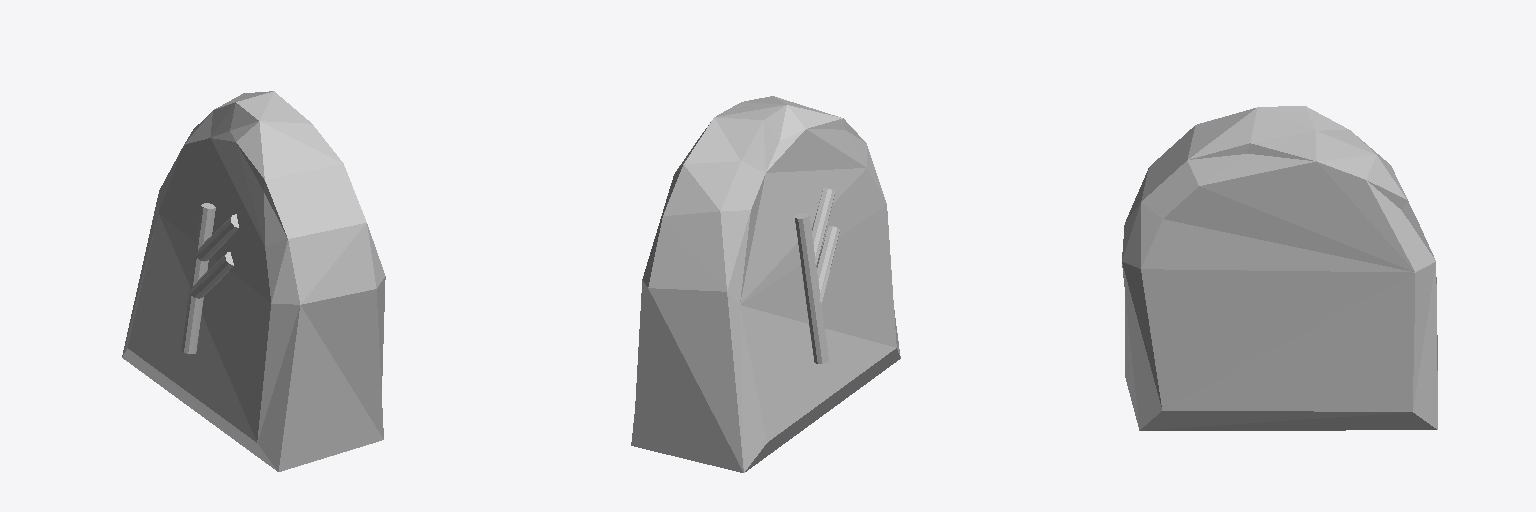
File: runa.obj
3 views of the same model, side by side, from view 1: azimuth 30°, elevation 25°; view 2: azimuth 150°, elevation 25°; view 3: azimuth 270°, elevation 25° (orthographic).
Parts seen in each view (by area): view 1: Cube.002; view 2: Cube.002; view 3: Cube.002.
Part boxes in pixels (x1,y1,x2,y2): Cube.002: (122,91,385,471); Cube.002: (631,96,900,472); Cube.002: (1122,106,1437,430).
Bounding box in the file's own units: 0.401 × 0.8418 × 0.8229.